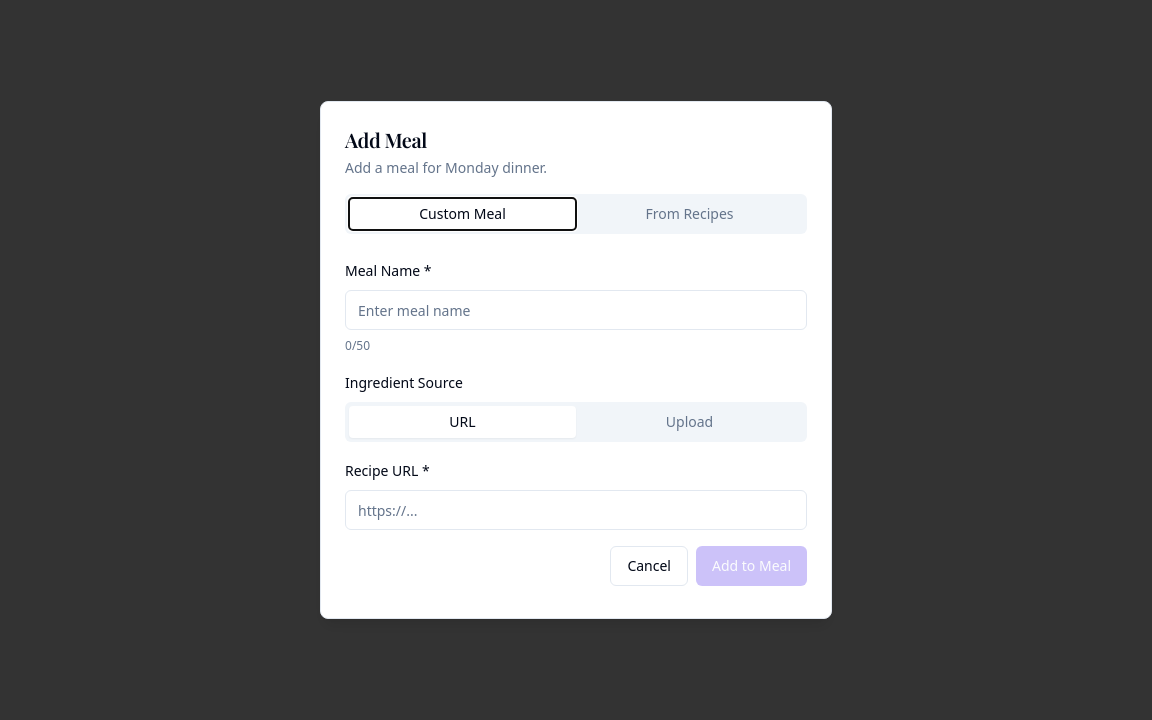
Test: AddMealDialog › enables Add to Meal button when name is entered
Step 1. Type "Tacos" into the field labelled "Meal Name *" → (576, 310), box [345,290,807,330]
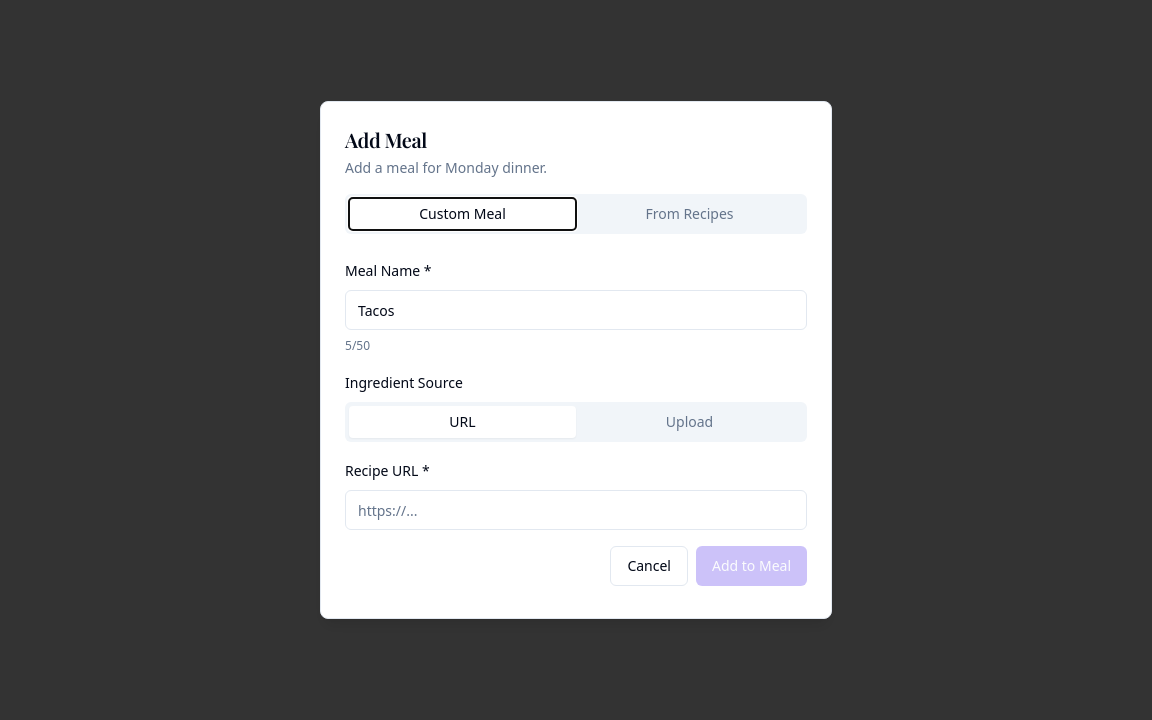
Step 2. Type "https://example.com/tacos" into the field labelled "Recipe URL *" → (576, 510), box [345,490,807,530]
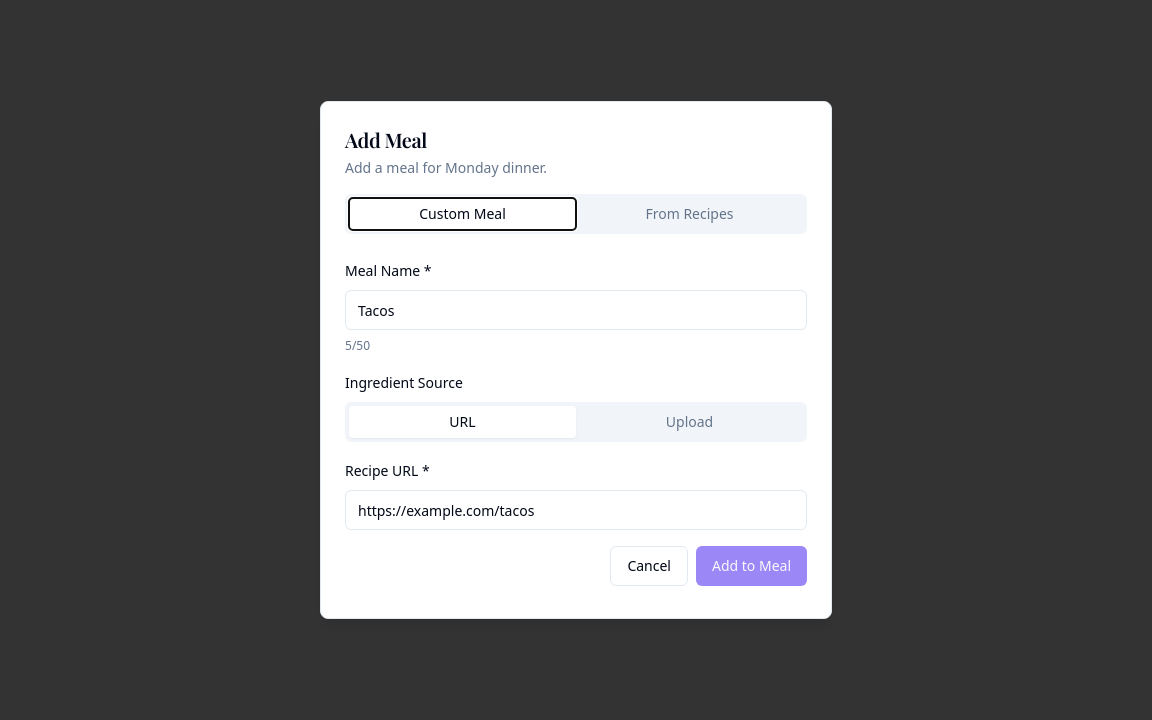
Now the button "Add to Meal" is enabled, box [696,546,807,586]
